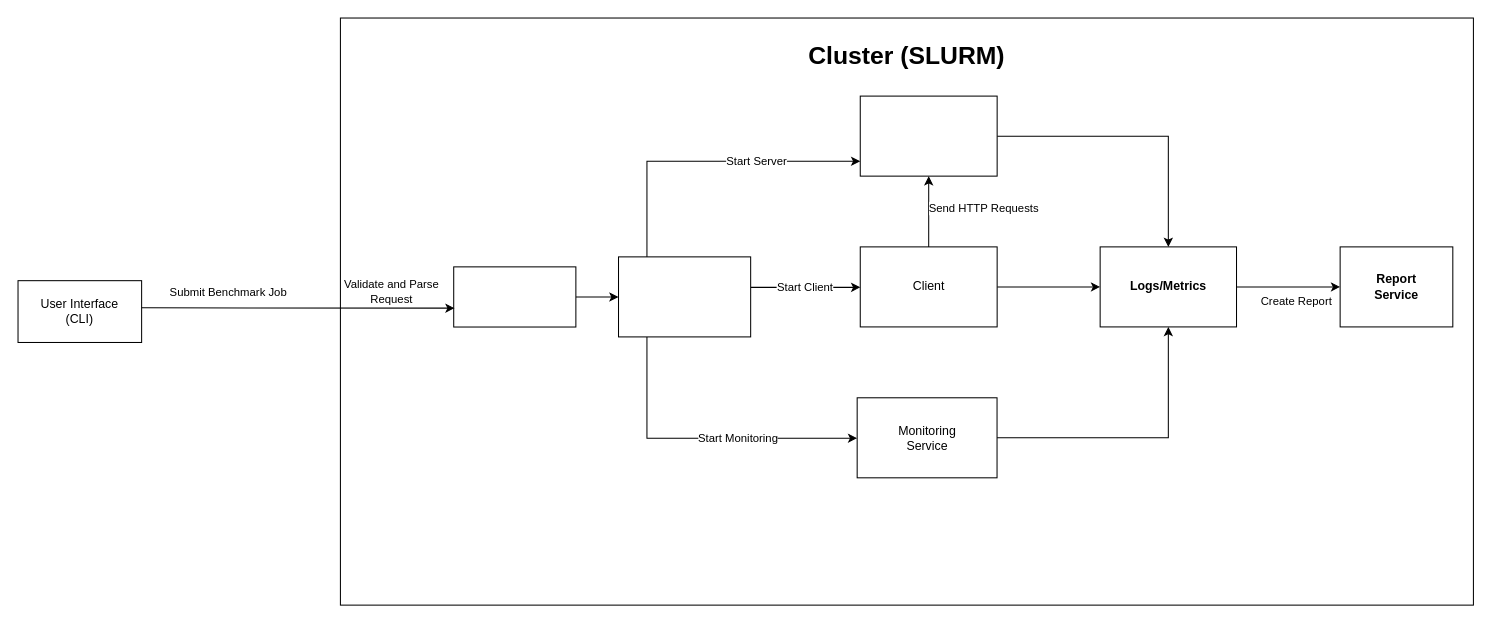
Image size: 1491x623. Some labels were removed from this diagram. Here are the shapes that lost their labels. From the top down, the box of each, then its label:
(859, 95, 997, 176): Server
(453, 266, 576, 327): Validator
(617, 256, 751, 337): Orchestrator
